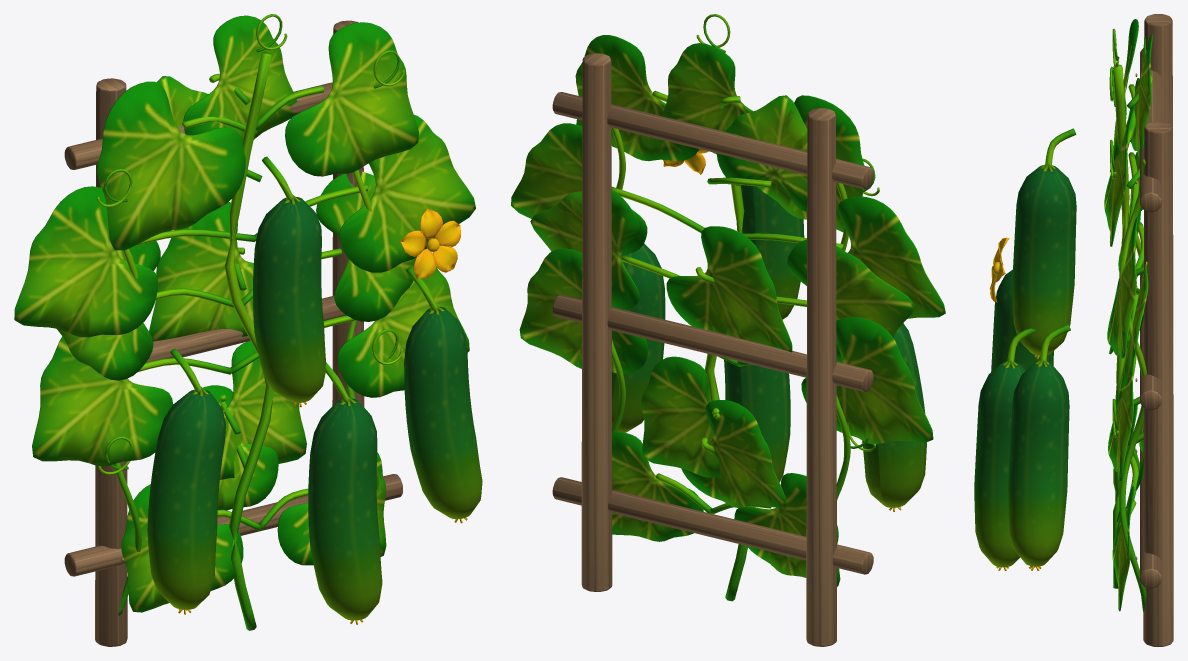
Rendered from NP_Cucumber_Ready.fbx.
3 renders of one model, left to right at view 1: azimuth 30°, elevation 25°; view 2: azimuth 150°, elevation 25°; view 3: azimuth 270°, elevation 25°, orthographic. The views are drawn at different scales.
Visible parts, largest first — view 1: NP_Cucumber_Ready; view 2: NP_Cucumber_Ready; view 3: NP_Cucumber_Ready.
Part boxes in pixels (<box>): NP_Cucumber_Ready: <box>14,14,482,646</box>; NP_Cucumber_Ready: <box>511,14,945,646</box>; NP_Cucumber_Ready: <box>974,14,1173,646</box>.
Bounding box in the file's own units: 91.14 × 116 × 37.02.
